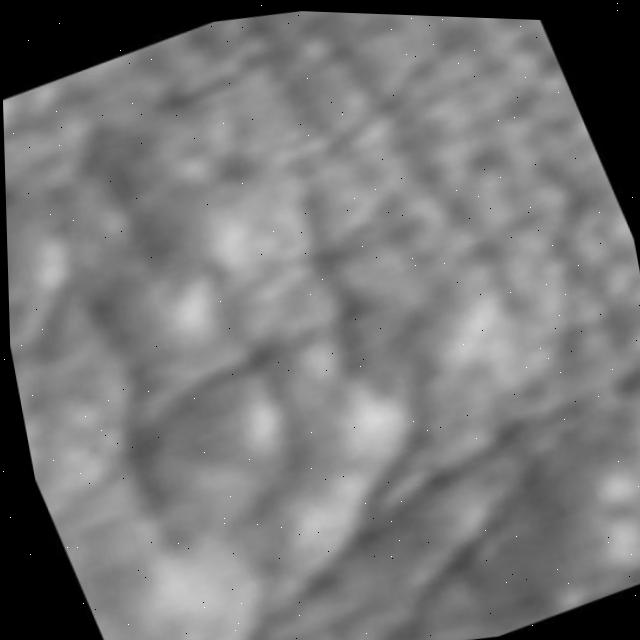Eczema: (19, 103, 428, 619)
